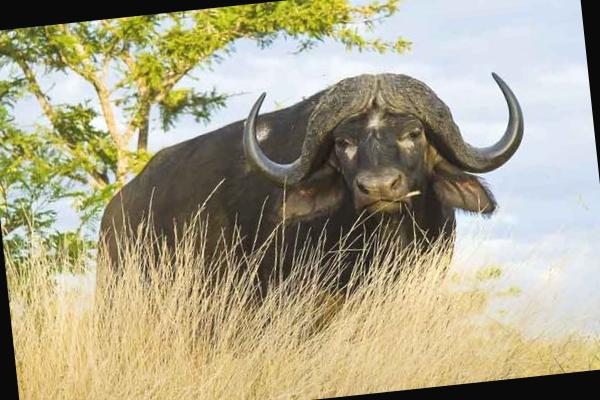Buffalo: (66, 28, 591, 378)
